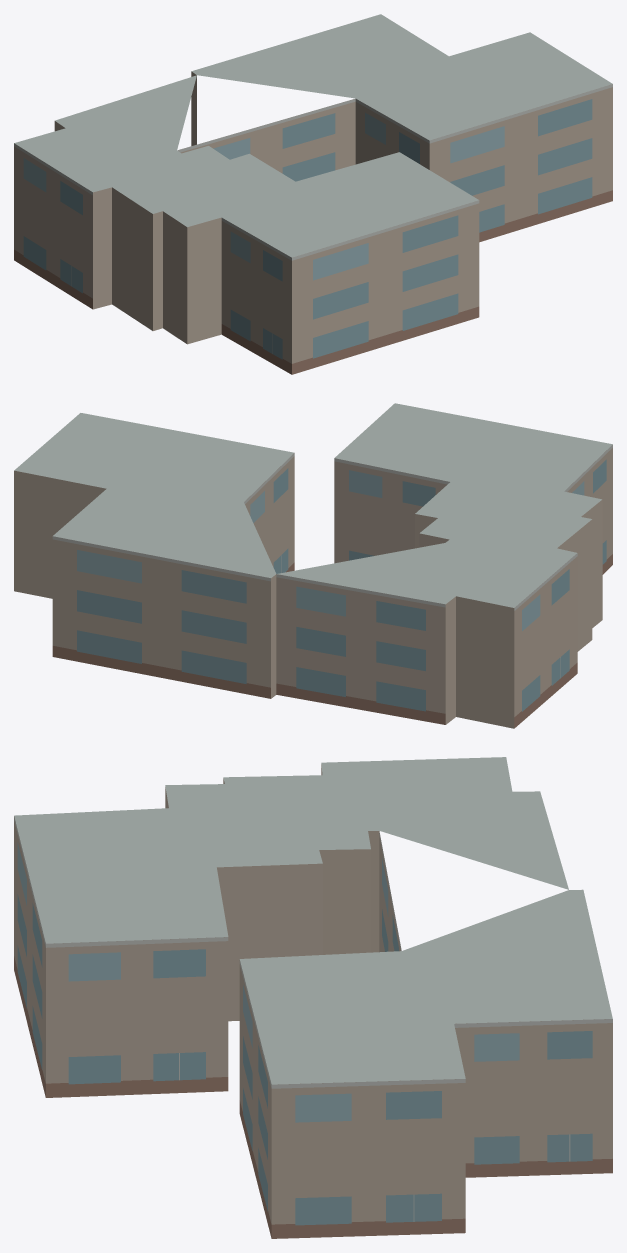
The model's file is survey-upis-33023846.glb.
3 renders of one model, top to bottom at view 1: azimuth 30°, elevation 25°; view 2: azimuth 150°, elevation 25°; view 3: azimuth 270°, elevation 25°, orthographic. The views are drawn at different scales.
Parts seen in each view (by area): view 1: survey-upis-33023846.tmp; view 2: survey-upis-33023846.tmp; view 3: survey-upis-33023846.tmp.
Part boxes in pixels (box(x1,y1,x2,y2)): survey-upis-33023846.tmp: box(14, 14, 612, 374); survey-upis-33023846.tmp: box(14, 403, 612, 728); survey-upis-33023846.tmp: box(14, 757, 612, 1238).
Size of the model in its own units: 41.69 by 9.15 by 32.2.
